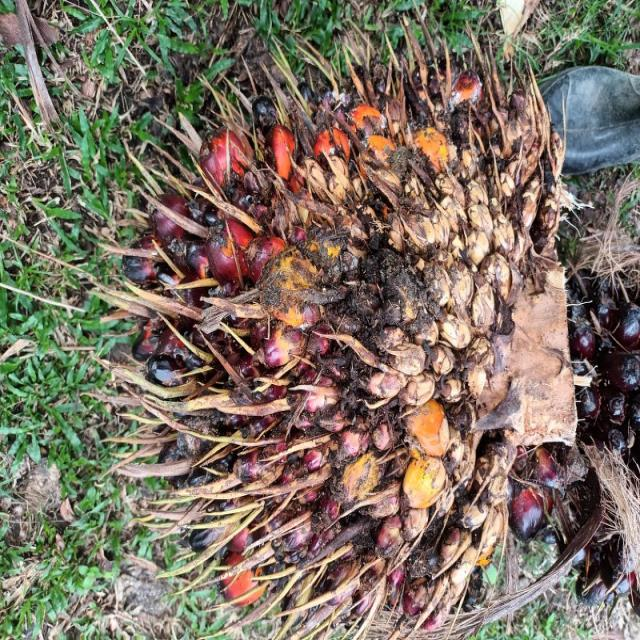fraksi 1: (0, 104, 438, 640)
